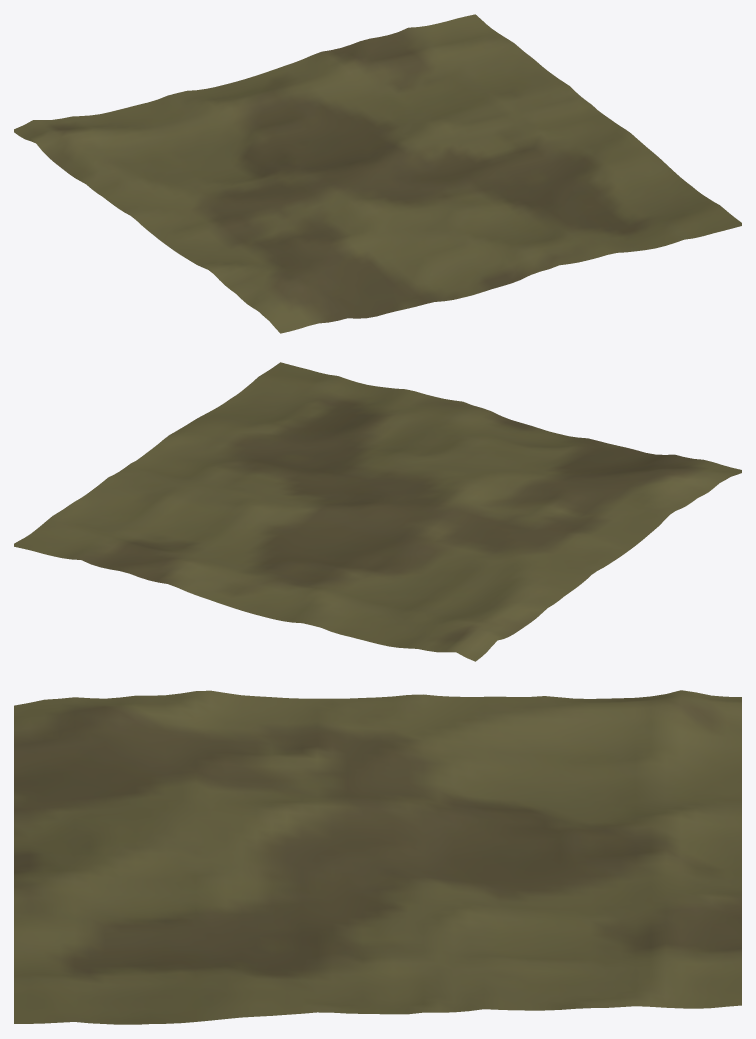
Rendered from land_m_04_01.glb.
3 views of the same model, one above another, from view 1: azimuth 30°, elevation 25°; view 2: azimuth 150°, elevation 25°; view 3: azimuth 270°, elevation 25° (orthographic). The views are drawn at different scales.
Visible parts, largest first — view 1: land_m_04_01; view 2: land_m_04_01; view 3: land_m_04_01.
Part boxes in pixels (x1=…): land_m_04_01: x1=14, y1=14, x2=741, y2=333; land_m_04_01: x1=14, y1=362, x2=741, y2=661; land_m_04_01: x1=14, y1=690, x2=741, y2=1024.
Bounding box in the file's own units: 960 × 52.08 × 960.
